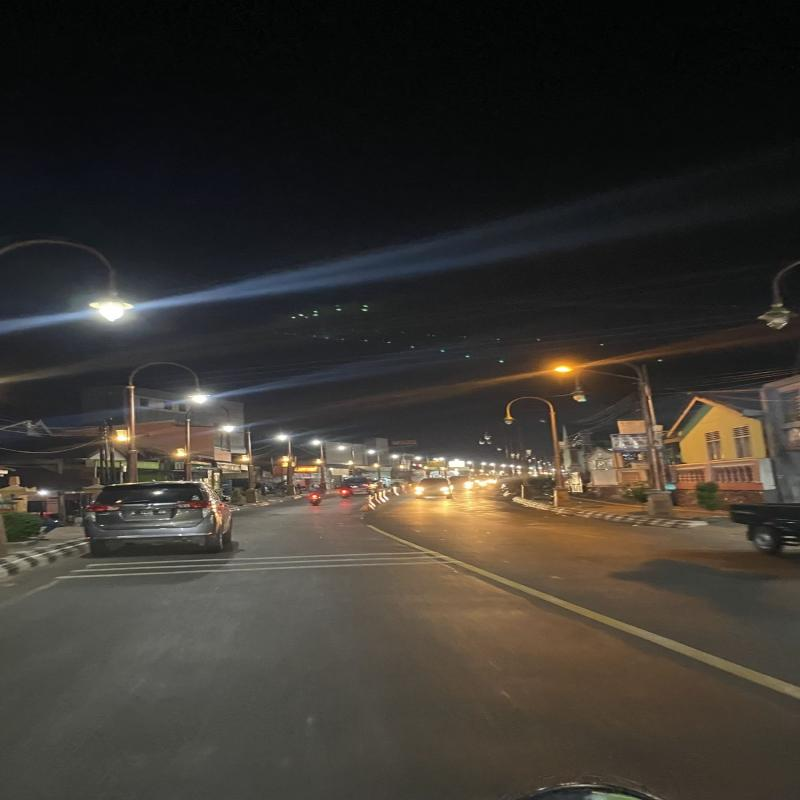license plate on a car: (128, 508, 170, 516)
